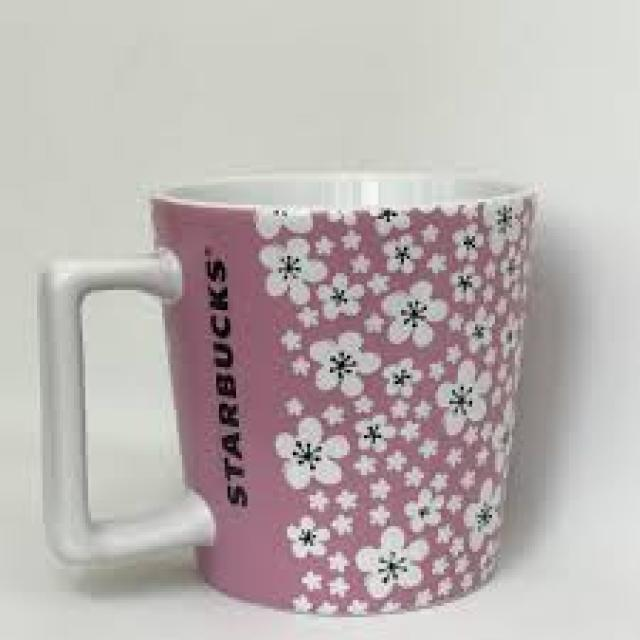taza: (40, 167, 544, 619)
